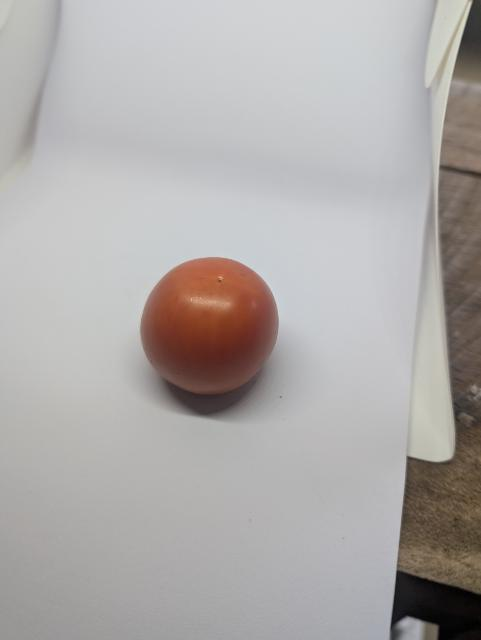red: (117, 241, 294, 416)
